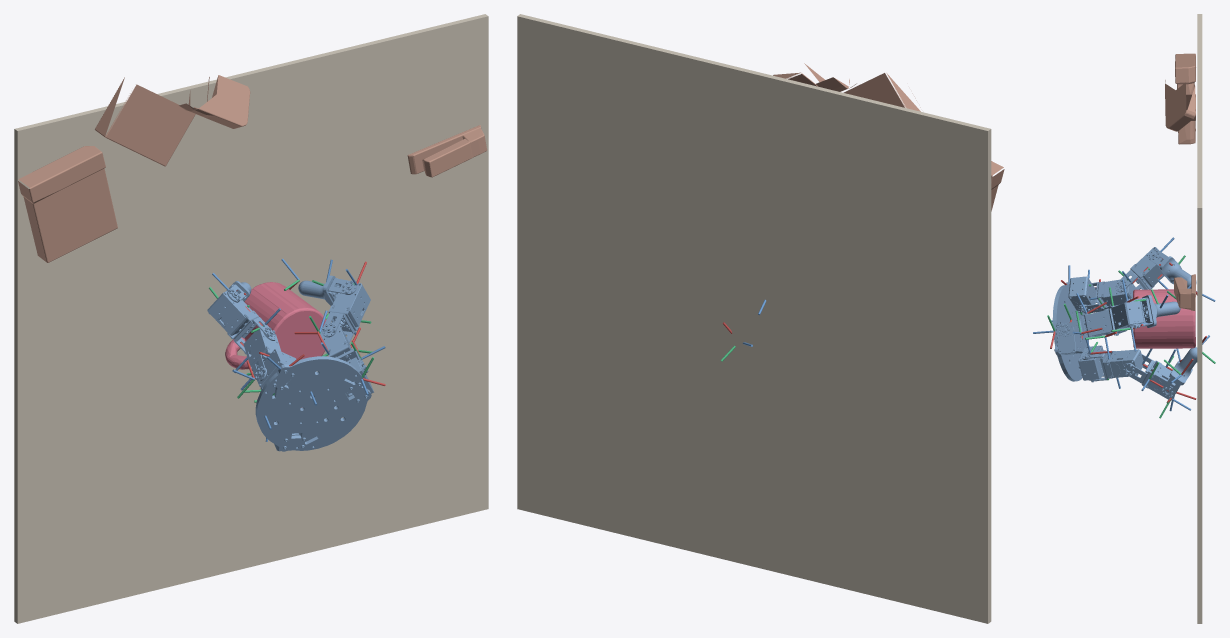
3 renders of one model, left to right at view 1: azimuth 30°, elevation 25°; view 2: azimuth 150°, elevation 25°; view 3: azimuth 270°, elevation 25°, orthographic. The views are drawn at different scales.
Parts seen in each view (by area): view 1: environment, hand, local_object_003, local_object_001, target_object, local_object_002, local_object_000; view 2: environment, local_object_001, local_object_000; view 3: hand, environment, target_object, local_object_000, local_object_003, local_object_002.
Boxes of the visible parts, x1,y1,x2,y2 form: environment: (14, 14, 488, 623); hand: (207, 275, 373, 451); local_object_003: (18, 146, 117, 262); local_object_001: (95, 77, 195, 166); target_object: (225, 282, 326, 369); local_object_002: (407, 125, 486, 177); local_object_000: (178, 75, 250, 128); environment: (517, 14, 991, 623); local_object_001: (843, 73, 920, 111); local_object_000: (773, 63, 856, 91); hand: (1052, 247, 1197, 400); environment: (1197, 14, 1202, 623); target_object: (1133, 289, 1195, 348); local_object_000: (1165, 80, 1195, 131); local_object_003: (1175, 53, 1195, 144); local_object_002: (1174, 274, 1195, 310).
Bounding box in the file's own units: 0.7016 × 0.7426 × 0.279.
